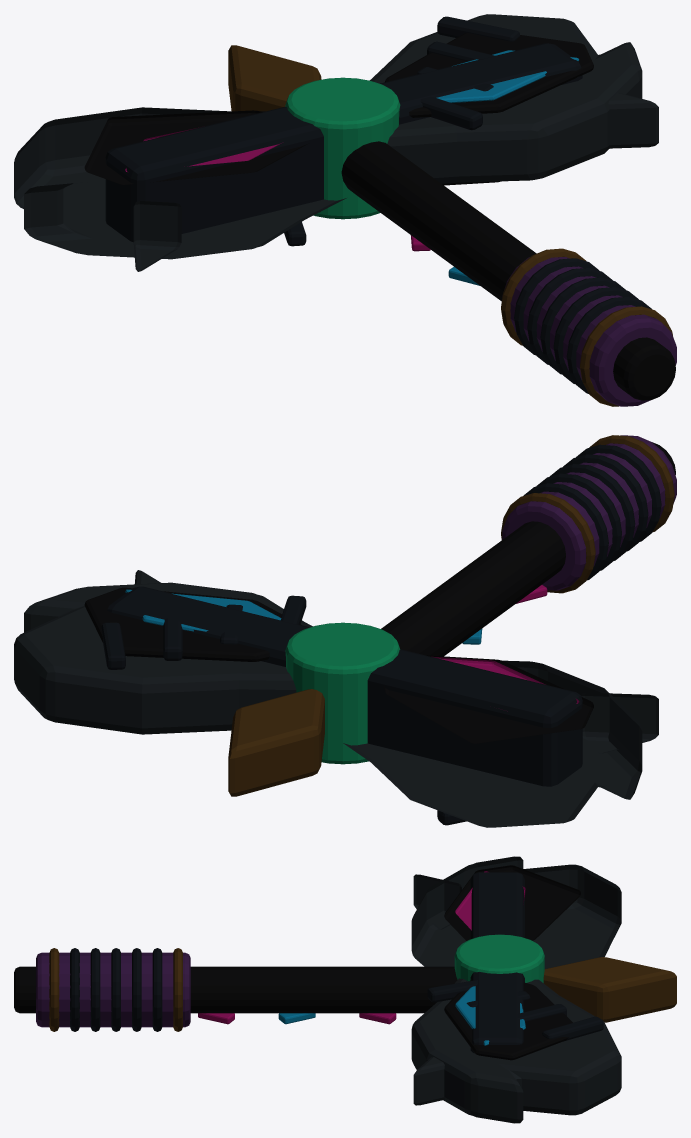
File: Prismora_Frantuma_V2.fbx
3 renders of one model, top to bottom at view 1: azimuth 30°, elevation 25°; view 2: azimuth 150°, elevation 25°; view 3: azimuth 270°, elevation 25°, orthographic. The views are drawn at different scales.
Visible parts, largest first — view 1: FrantumaV2_Body, FrantumaV2_Energy; view 2: FrantumaV2_Body, FrantumaV2_Energy; view 3: FrantumaV2_Body, FrantumaV2_Energy.
Part boxes in pixels (x1,y1,x2,y2): FrantumaV2_Body: (14,14,676,406); FrantumaV2_Energy: (125,50,578,285); FrantumaV2_Body: (14,435,676,827); FrantumaV2_Energy: (125,585,579,764); FrantumaV2_Body: (14,856,676,1123); FrantumaV2_Energy: (198,871,544,1045).
Bounding box in the file's own units: 5.86 × 0.904 × 7.07.
Materials: 3 (2 with a texture image).
